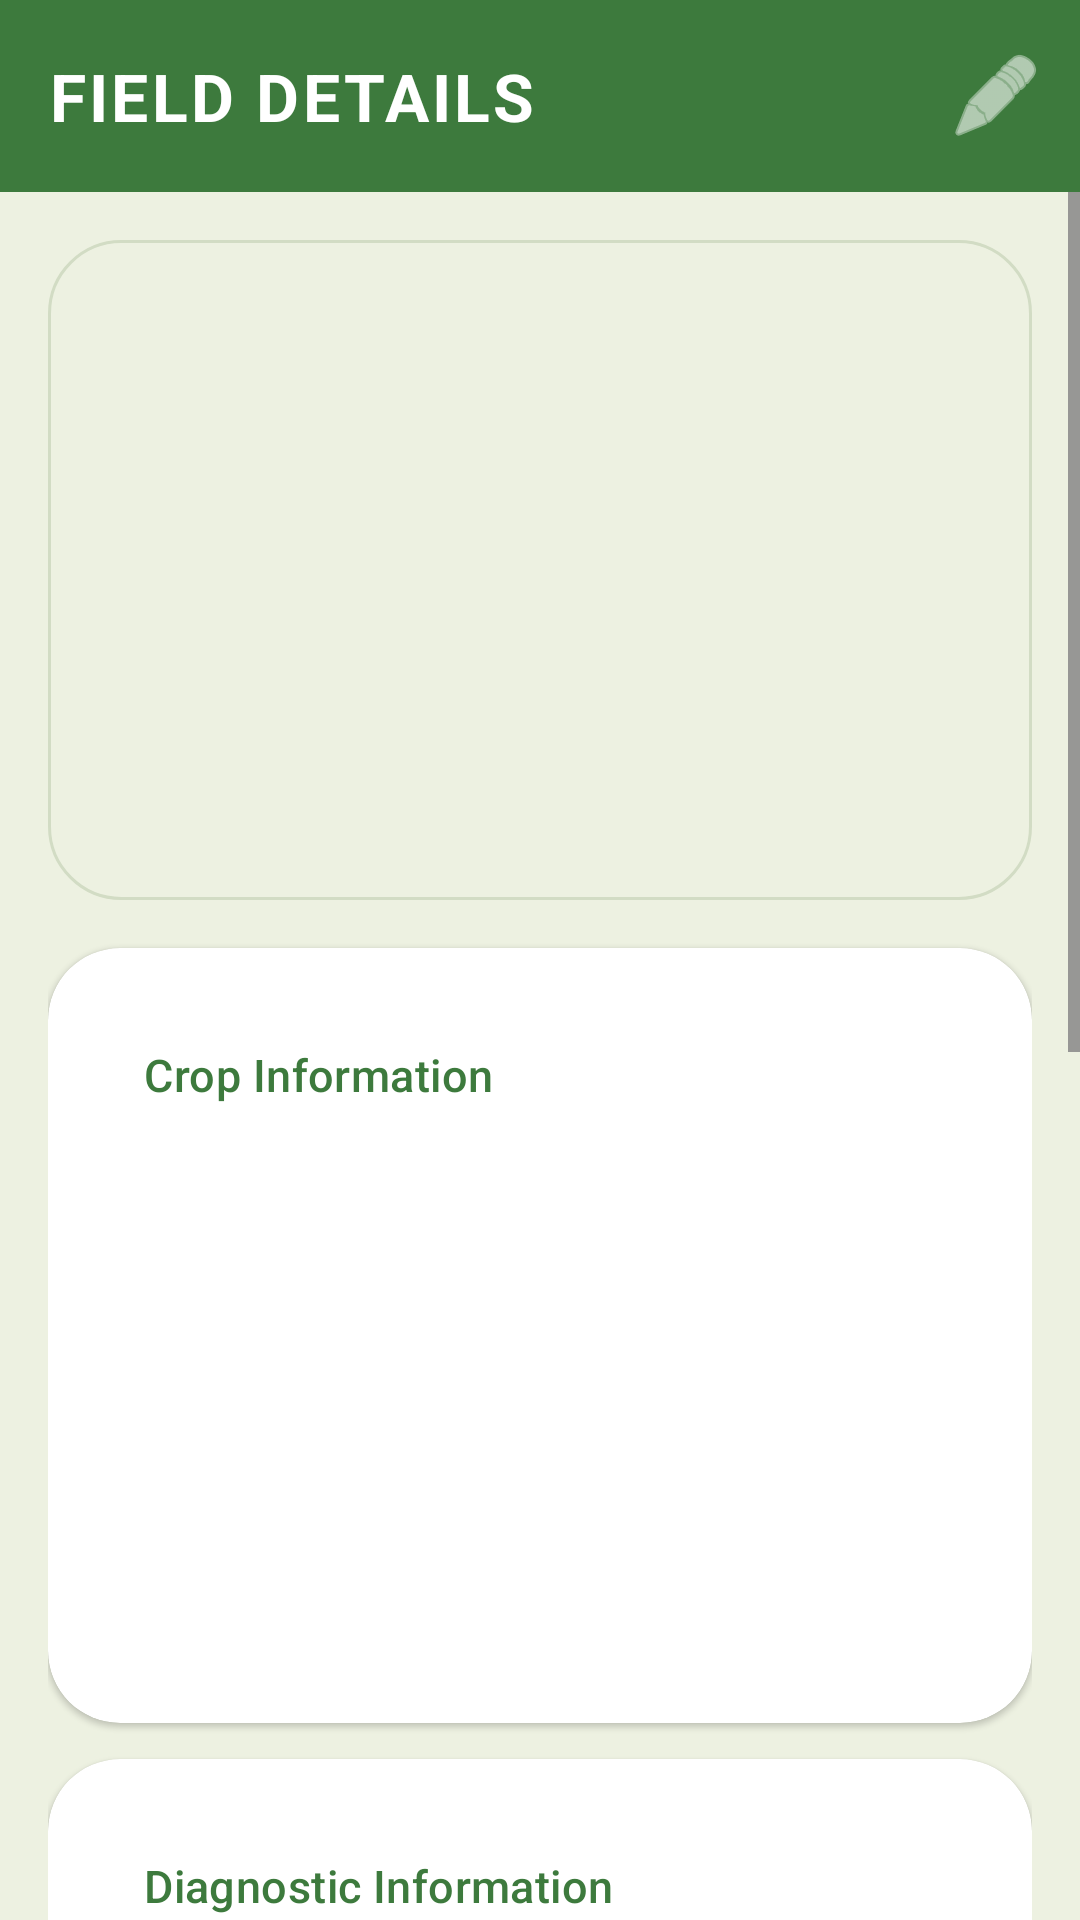

Icons on this 1080×1920 Android screen, each with its box as region(x1, y1, x2, y2):
Edit Field: region(955, 55, 1036, 136)
